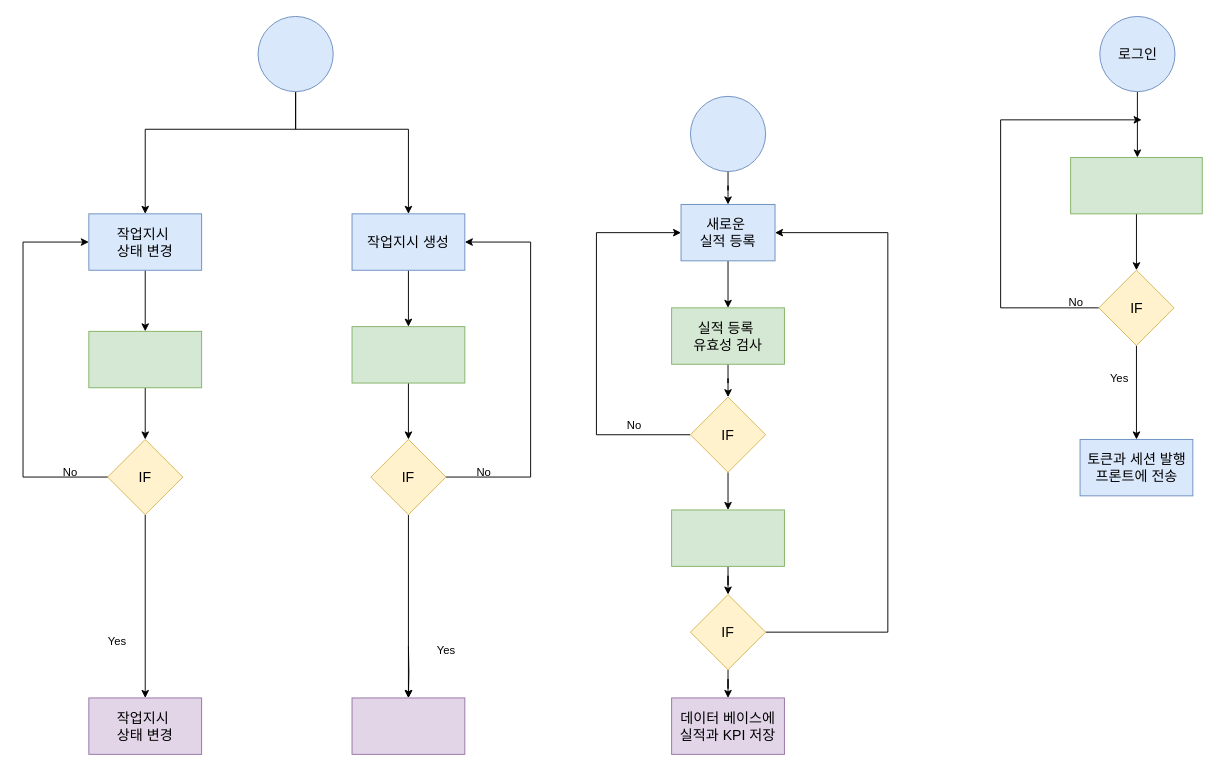
Image size: 1219x771. Some labels were removed from this diagram. The shapes that lost their labels are listed below. From the top down, each one's box as (x1, y1, x2, y2) in pixels, then its label:
(257, 16, 333, 92): 작업지시
(689, 95, 766, 172): 실적 등록
(1070, 157, 1202, 214): 데이터베이스를 통해 로그인 정보 비교
(88, 330, 202, 388): 전이 가드 체크
(351, 326, 465, 383): 작업 지시 유효성 검사
(671, 509, 784, 566): KPI 실시간 계산
(351, 697, 465, 754): 데이터 베이스에 새 작업지시 저장
